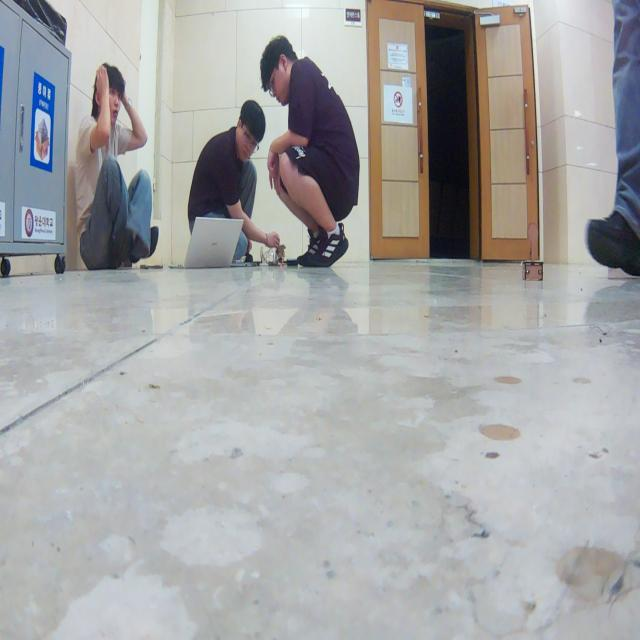target: (522, 221, 544, 282)
